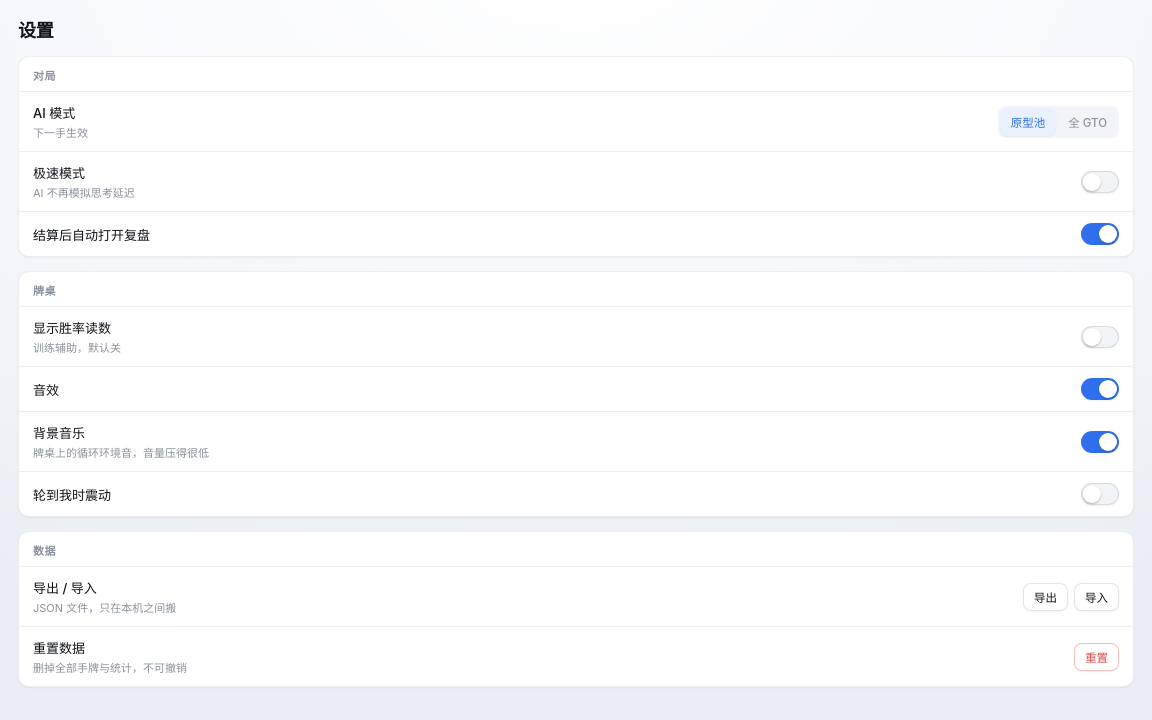
重置数据的二次确认 › 确认之后才真的清空，并通知 App 归零会话
What coordinates should you click on to do the following:
click the button "重置"
I would click on:
 (1096, 656)
Its box is 1074,642 -> 1119,670.
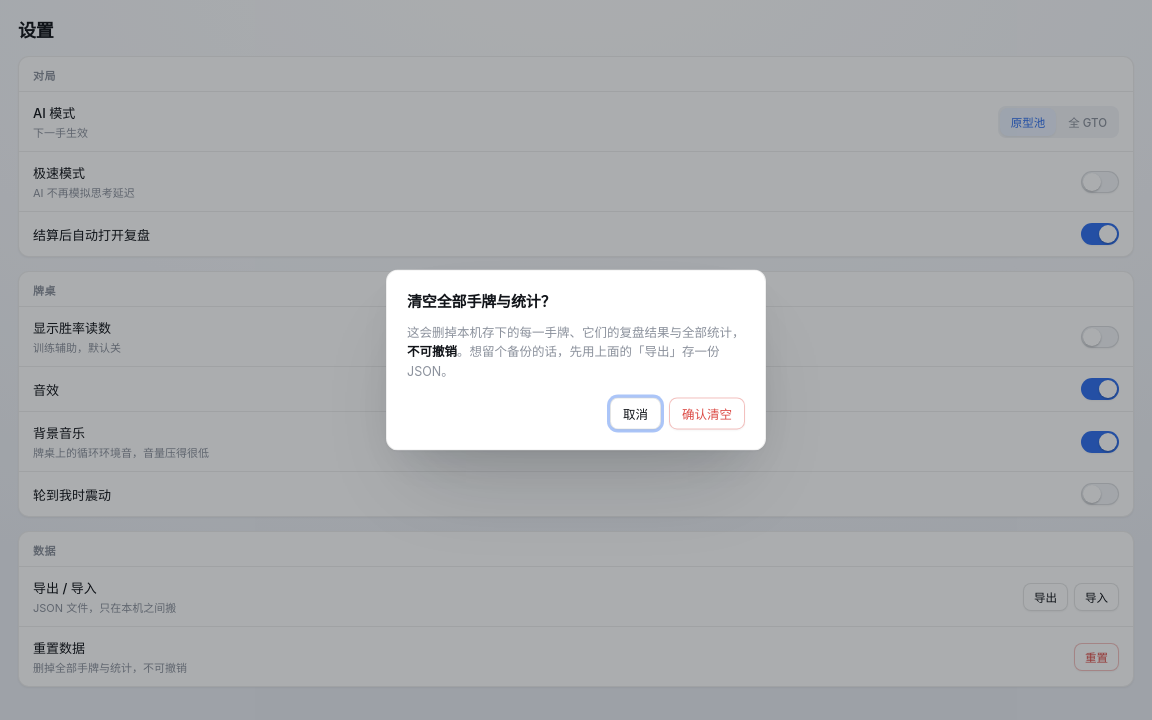
What coordinates should you click on to do the following:
click the button "确认清空"
I would click on:
 (707, 414)
Its box is 669,398 -> 745,430.
(page scrolled)
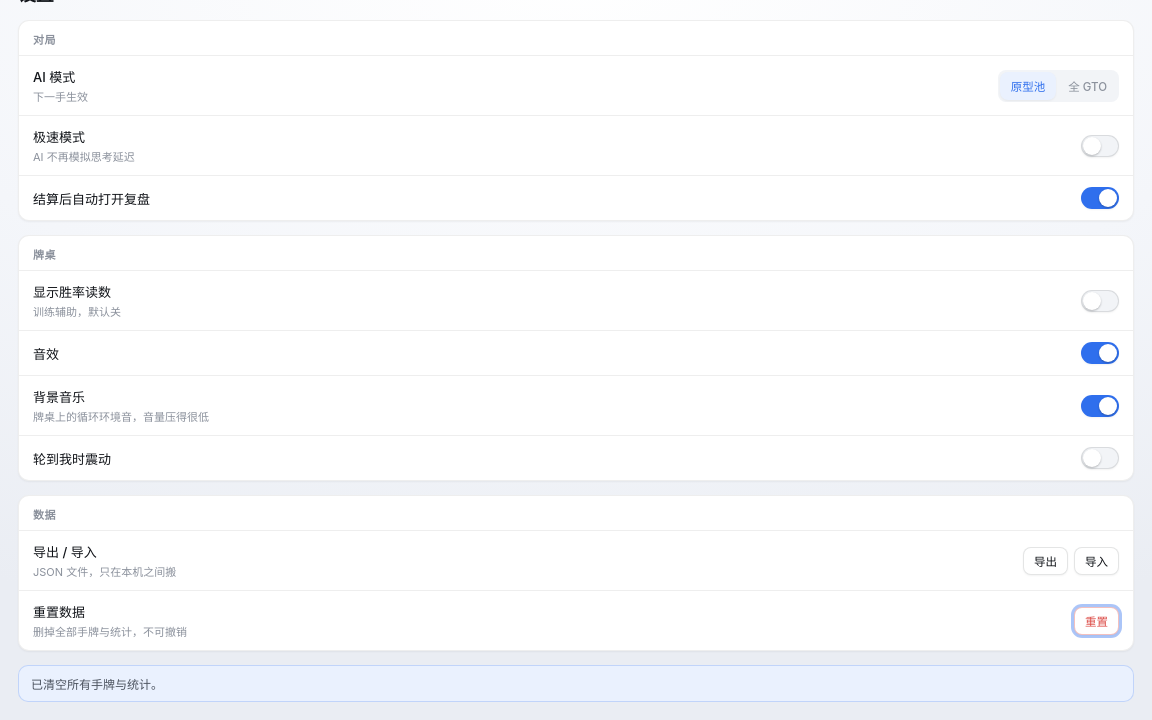
Now the message shows "已清空", box 18,665 -> 1134,702
